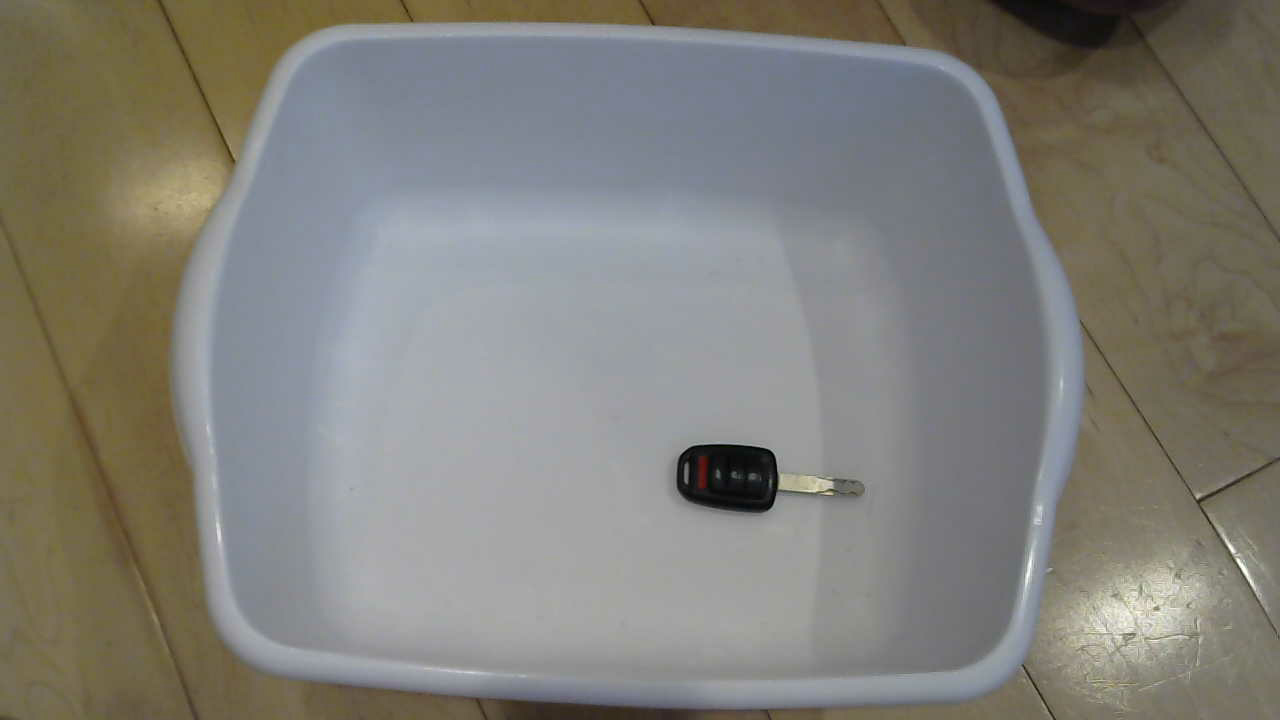key: (668, 435, 894, 531)
